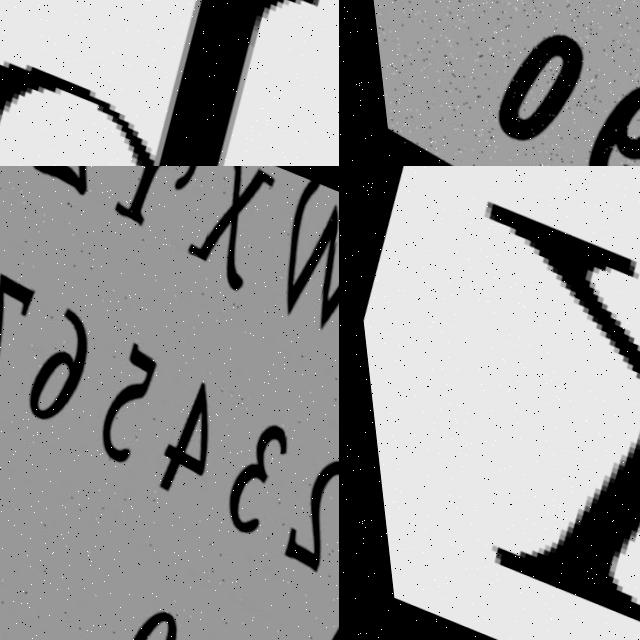0: (432, 0, 617, 166), (57, 567, 201, 640)
2: (233, 403, 339, 603)
3: (183, 386, 319, 552)
4: (109, 348, 258, 524)
5: (38, 305, 200, 493)
6: (0, 270, 132, 459)
7: (0, 234, 64, 426)
9: (527, 35, 640, 166), (124, 602, 273, 640)
H: (0, 0, 307, 166)
K: (349, 166, 640, 640)
